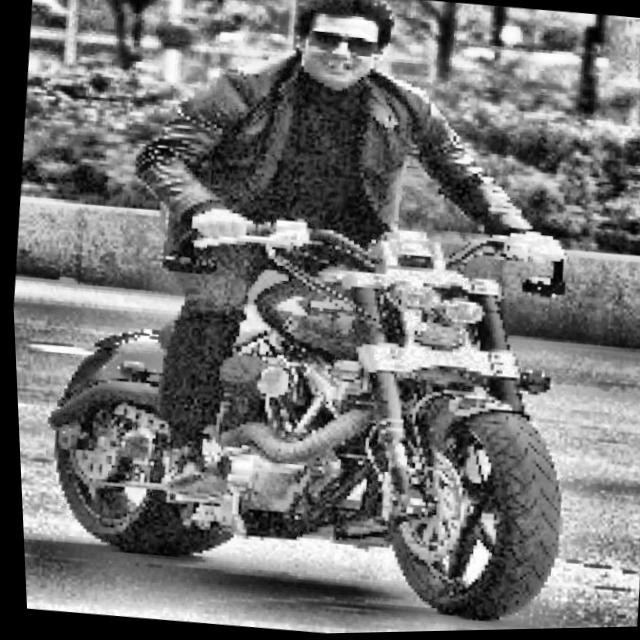motorcycle: (22, 179, 604, 640)
